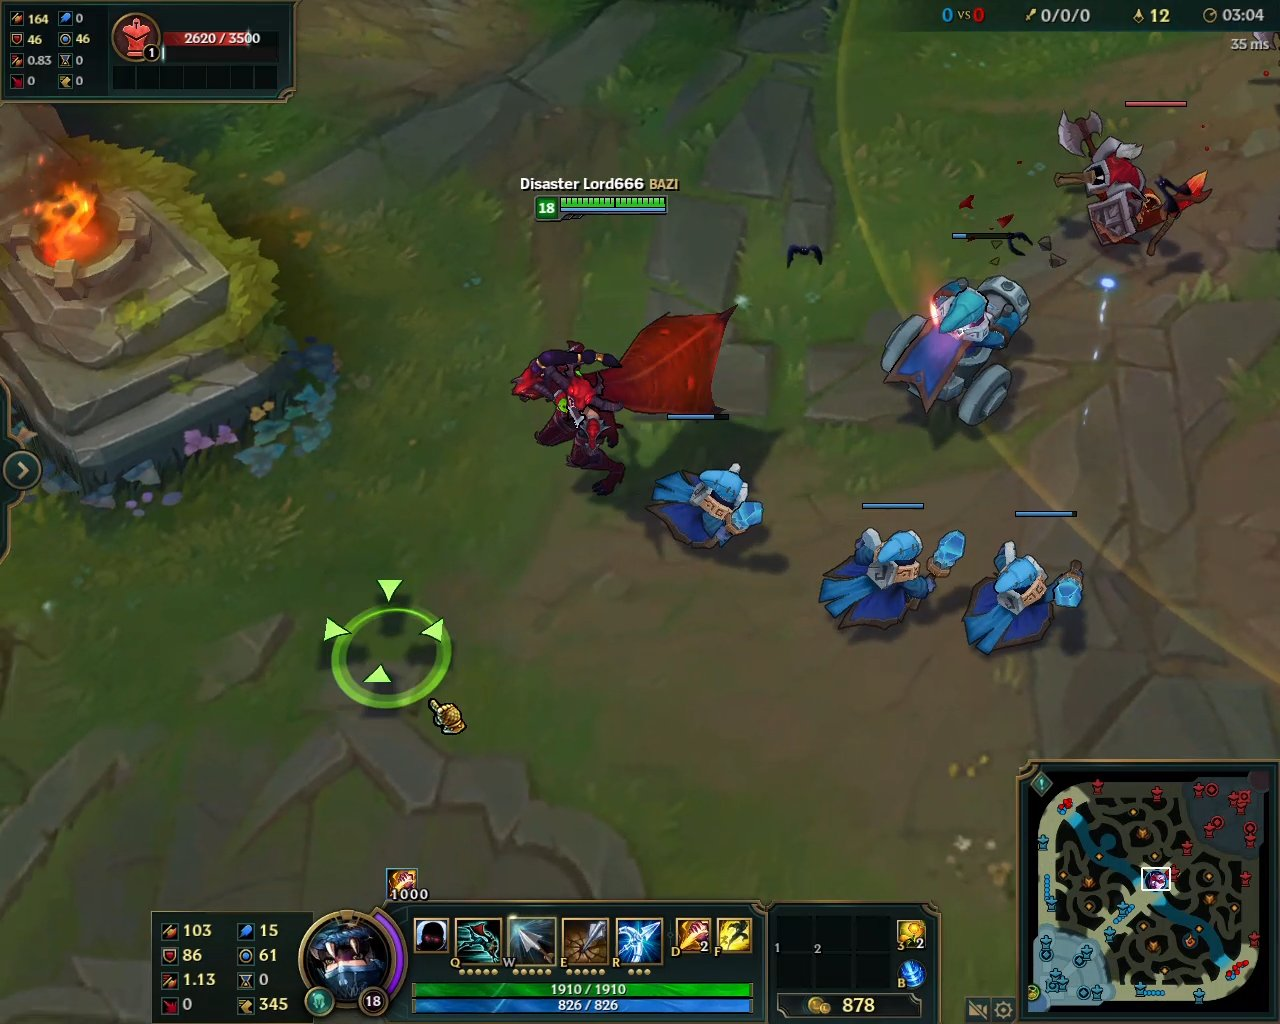EnemyMinion: (1054, 96, 1193, 247)
Vayne: (501, 299, 745, 503)
